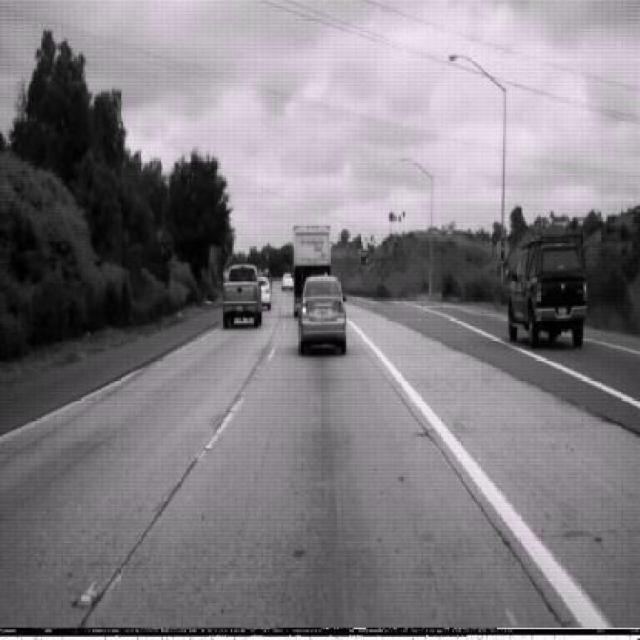signalAhead: (494, 231, 512, 265)
